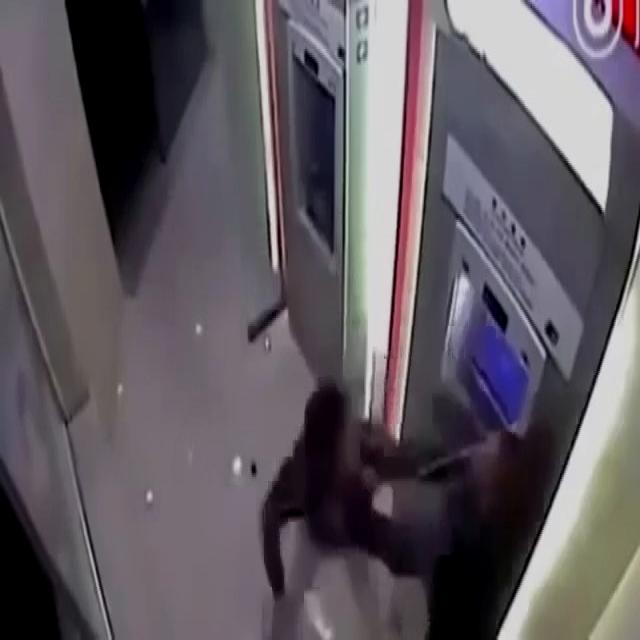fight: (259, 374, 551, 637)
